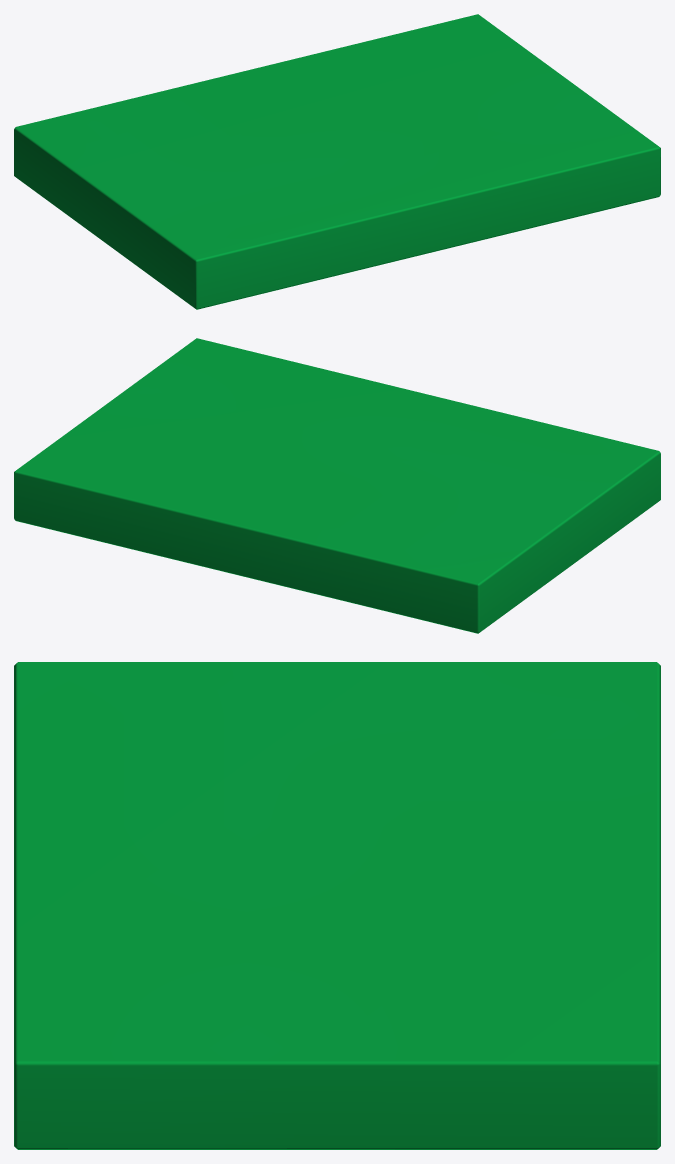
Rendered from Town_19_Base_1.glb.
3 views of the same model, one above another, from view 1: azimuth 30°, elevation 25°; view 2: azimuth 150°, elevation 25°; view 3: azimuth 270°, elevation 25° (orthographic). The views are drawn at different scales.
Parts seen in each view (by area): view 1: Town_19_Base_1; view 2: Town_19_Base_1; view 3: Town_19_Base_1.
Boxes of the visible parts, box(x1,y1,x2,y2) form: Town_19_Base_1: box(14, 14, 660, 309); Town_19_Base_1: box(14, 338, 660, 633); Town_19_Base_1: box(14, 662, 660, 1149).
Bounding box in the file's own units: 11.06 × 1.15 × 7.52.
Materials: 1 (1 with a texture image).
